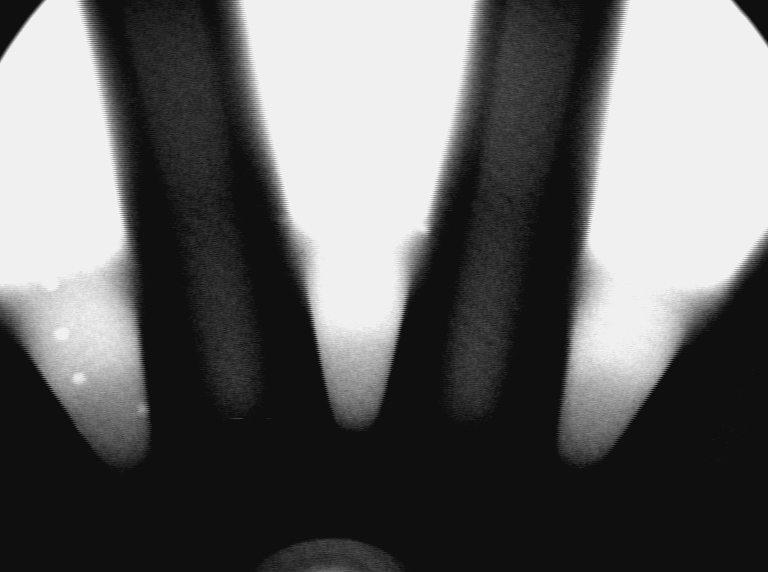defect: (42, 272, 63, 296)
